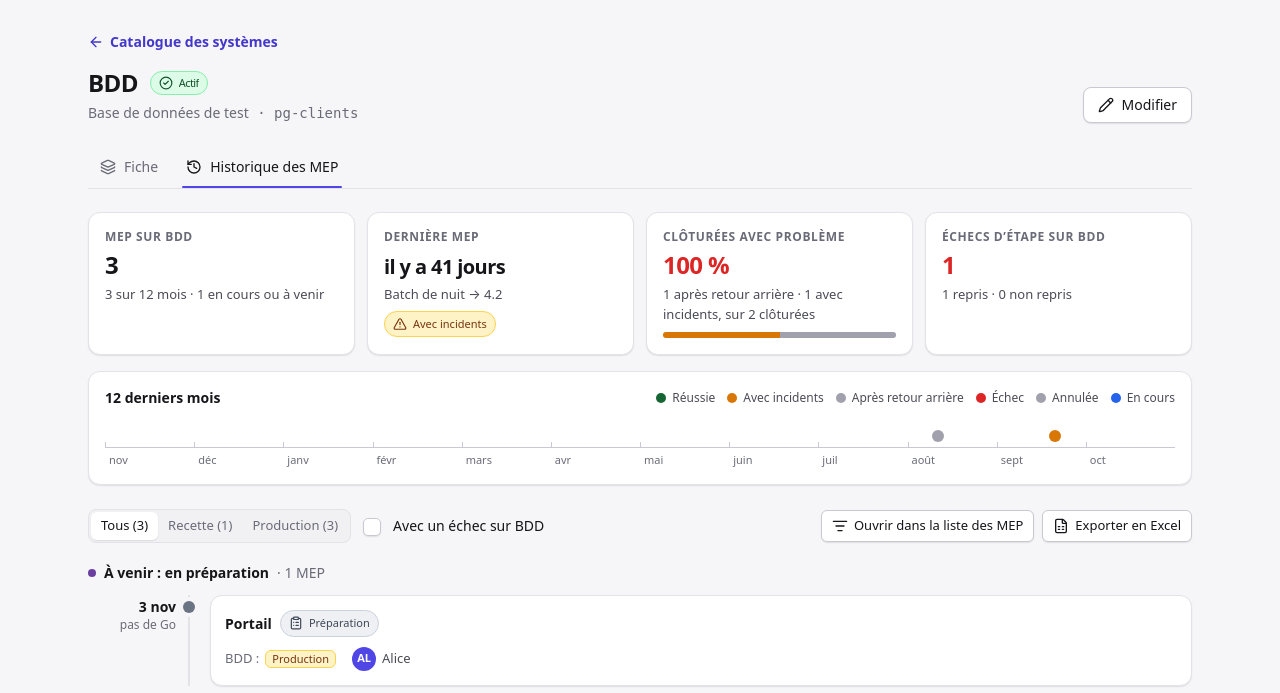
Test case: Fiche d’un système : historique des MEP (#59) › l’onglet montre la synthèse, la frise, les MEP par mois et les échecs sur le système
The image size is (1280, 693).
Expected: the tab "Historique des MEP" is shown, [174,147,350,187]
Expected: the text "Clôturées avec problème" is shown, [663,228,845,245]
Click the radio button labelled "Recette (1)".
click(200, 526)  # box [158,512,242,540]
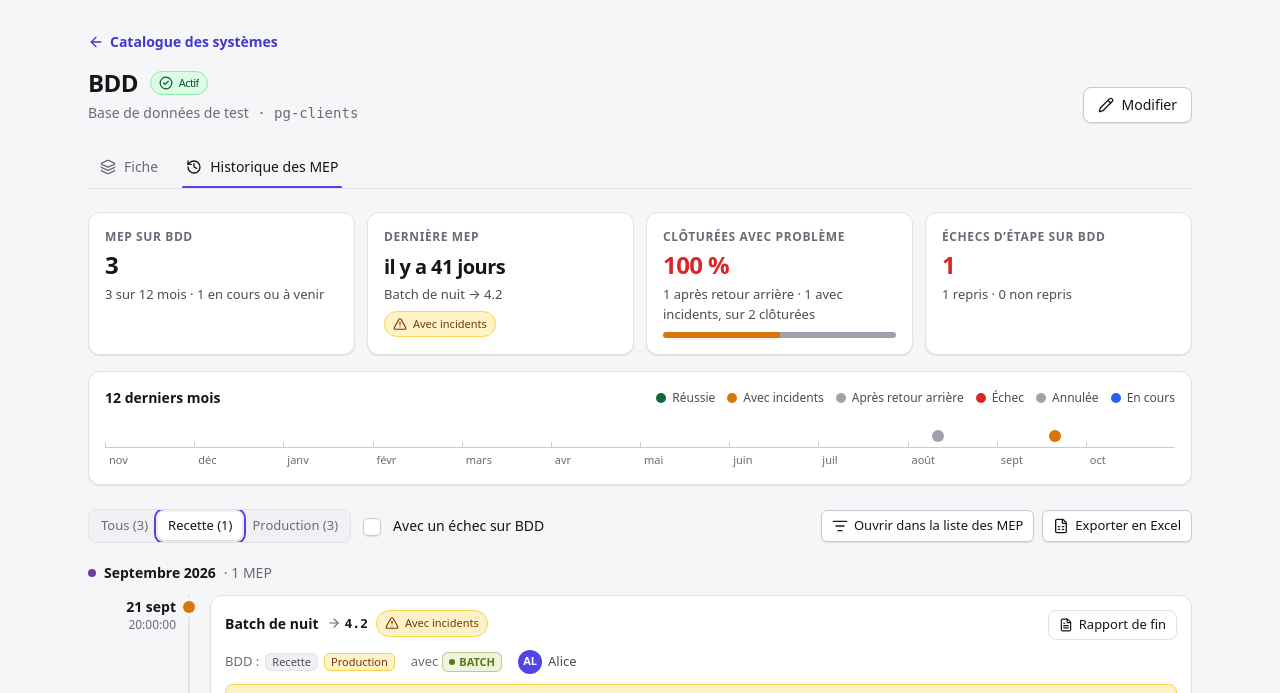
Expected: the link "Batch de nuit" is shown, [225,613,318,634]
Click the radio button labelled "Tous (3)".
click(125, 526)  # box [91,512,158,540]
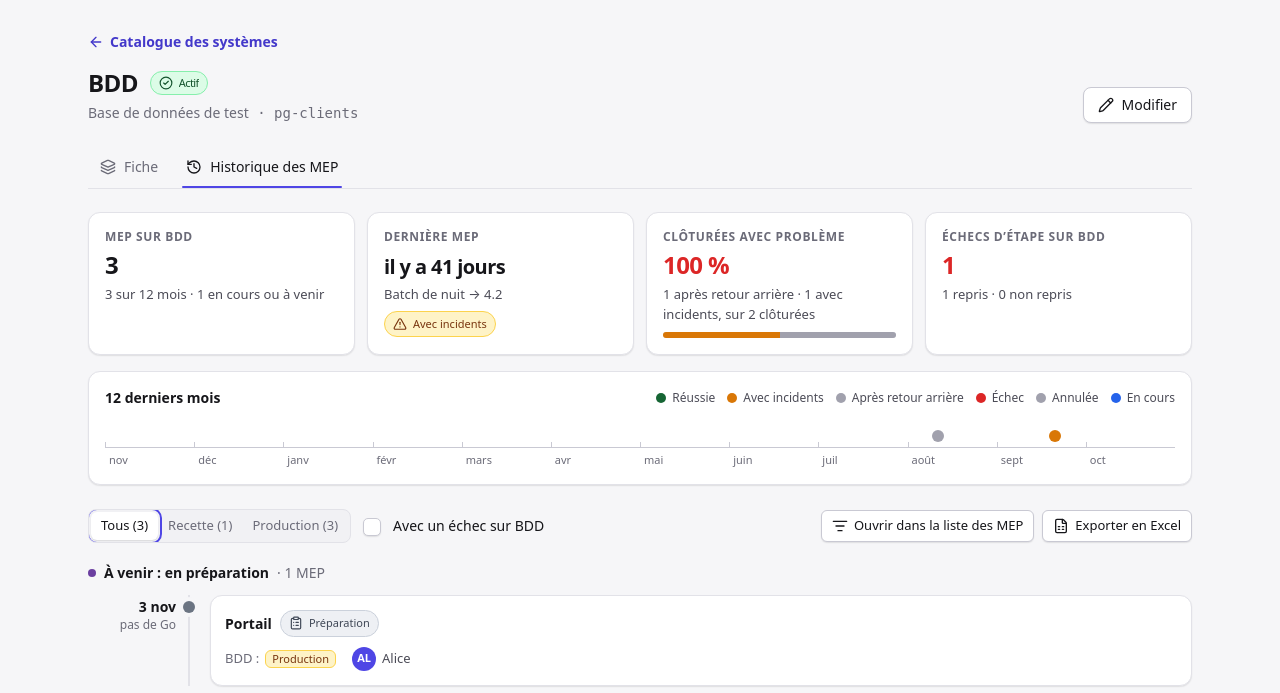
Click the checkbox named "Avec un échec sur BDD".
click(372, 527)  # box [363,518,381,536]
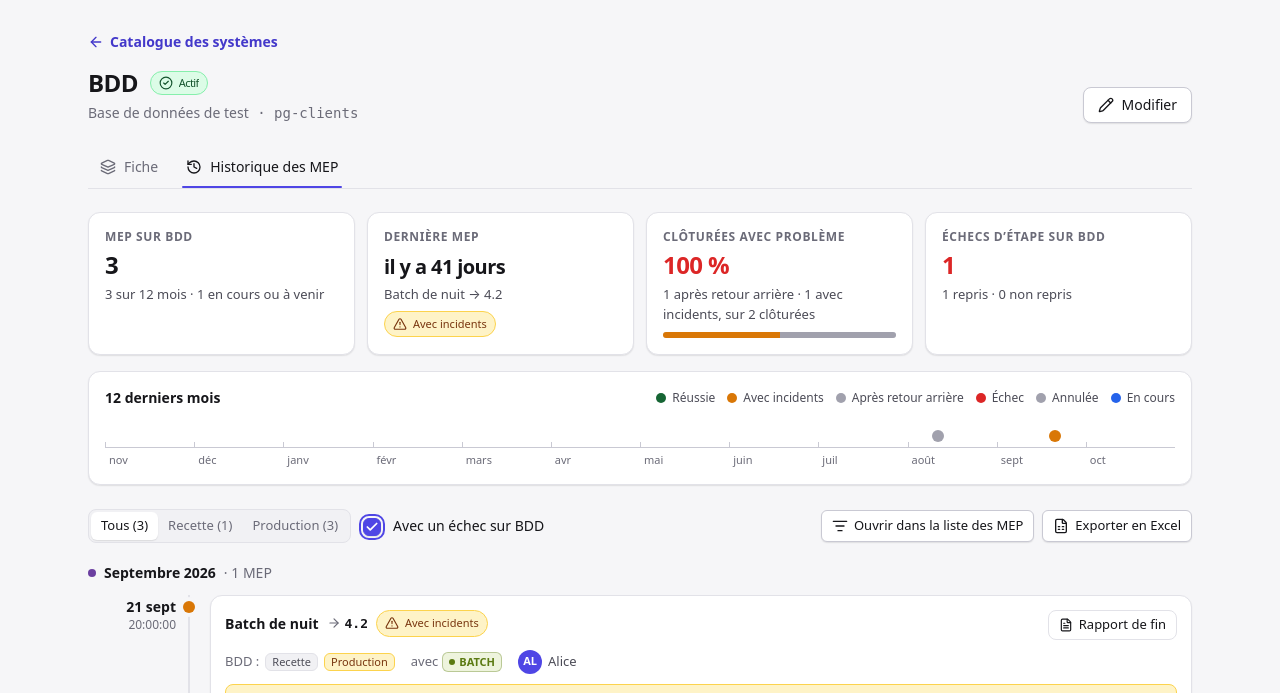
Note: Retour à la fiche : l'onglet par défaut n'apparaît pas dans l'adresse.
Click the tab "Fiche".
click(129, 167)  # box [88,147,170,187]
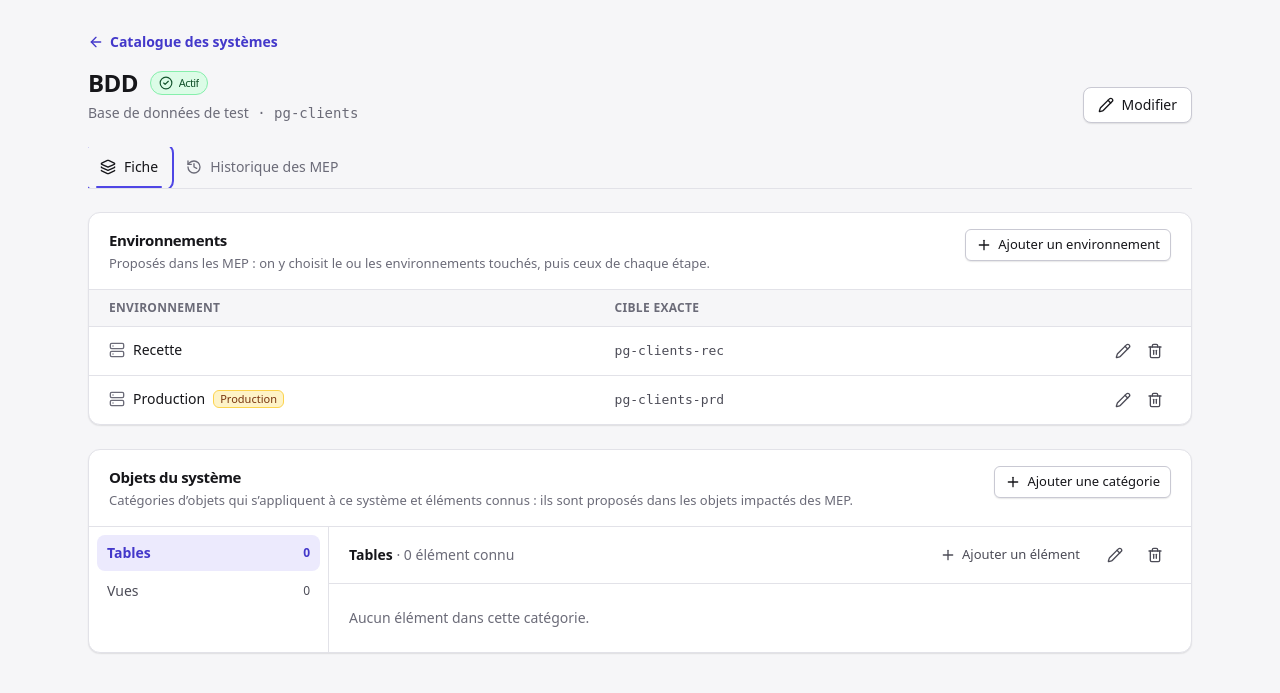
Expected: the heading "Environnements" is shown, [109,230,227,250]
